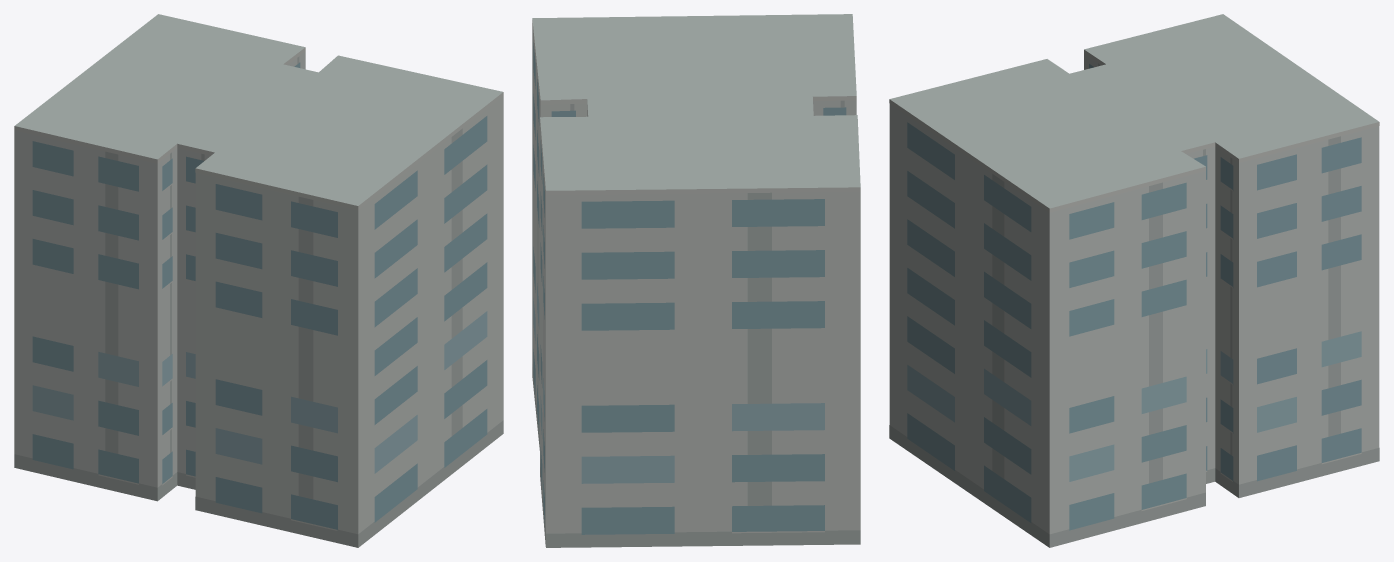
The model's file is survey-upis-32854594.glb.
The picture shows the model from 3 angles, left to right: view 1: azimuth 30°, elevation 25°; view 2: azimuth 150°, elevation 25°; view 3: azimuth 270°, elevation 25°; orthographic projection. The views are drawn at different scales.
Parts seen in each view (by area): view 1: survey-upis-32854594.tmp; view 2: survey-upis-32854594.tmp; view 3: survey-upis-32854594.tmp.
Boxes of the visible parts, x1,y1,x2,y2 form: survey-upis-32854594.tmp: [14, 14, 503, 547]; survey-upis-32854594.tmp: [532, 14, 860, 547]; survey-upis-32854594.tmp: [889, 14, 1379, 547].
Bounding box in the file's own units: 23.87 × 19.4 × 25.4.
